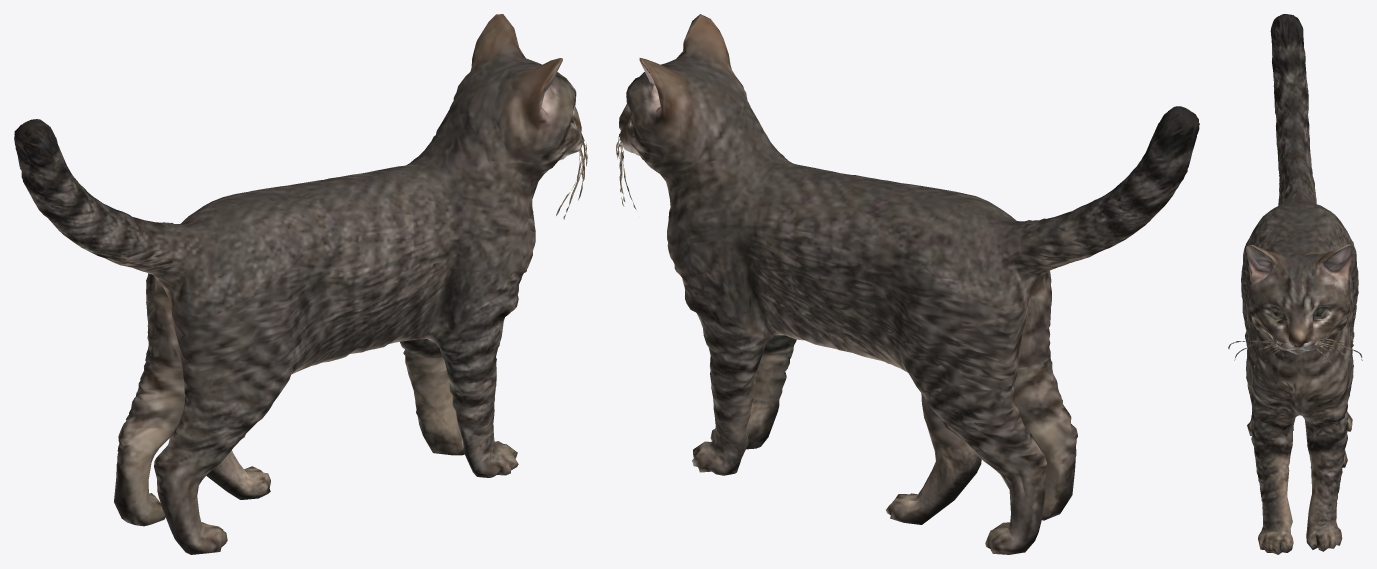
The model's file is NORAKEYS-lo.glb.
3 renders of one model, left to right at view 1: azimuth 30°, elevation 25°; view 2: azimuth 150°, elevation 25°; view 3: azimuth 270°, elevation 25°, orthographic. The views are drawn at different scales.
Parts seen in each view (by area): view 1: tripo_node_2c527360-a702-40f9-8c69-9516a7dd532c; view 2: tripo_node_2c527360-a702-40f9-8c69-9516a7dd532c; view 3: tripo_node_2c527360-a702-40f9-8c69-9516a7dd532c.
Boxes of the visible parts, bbox=[...] form: tripo_node_2c527360-a702-40f9-8c69-9516a7dd532c: bbox=[14, 14, 587, 554]; tripo_node_2c527360-a702-40f9-8c69-9516a7dd532c: bbox=[616, 14, 1199, 554]; tripo_node_2c527360-a702-40f9-8c69-9516a7dd532c: bbox=[1228, 14, 1362, 554].
Bounding box in the file's own units: 1.31 × 0.9976 × 0.3367.
Materials: 1 (1 with a texture image).
